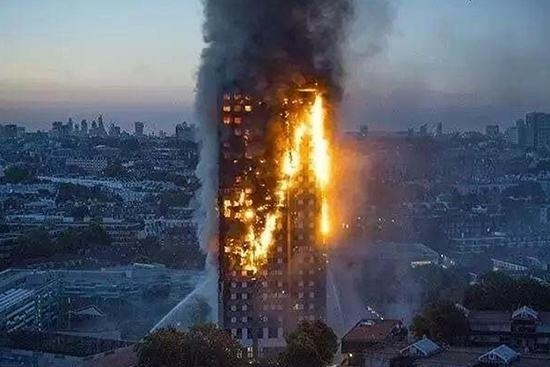fire: (222, 87, 339, 269), (220, 91, 252, 130)
